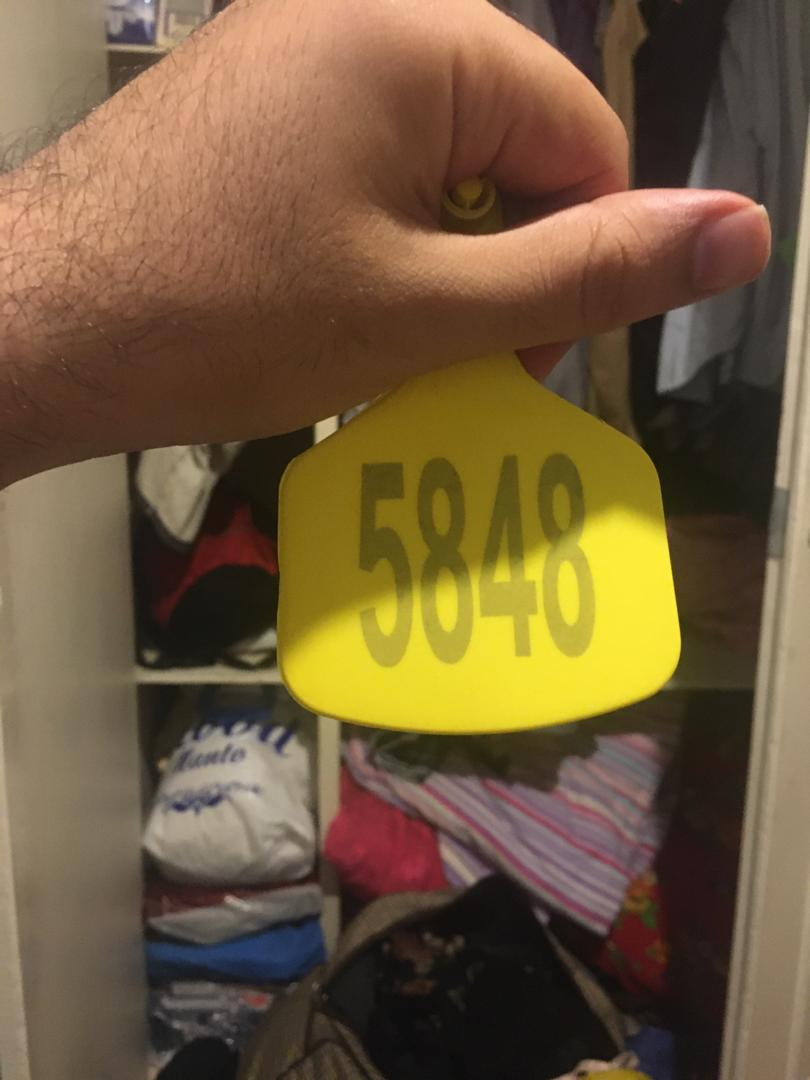digit: (355, 451, 598, 671)
